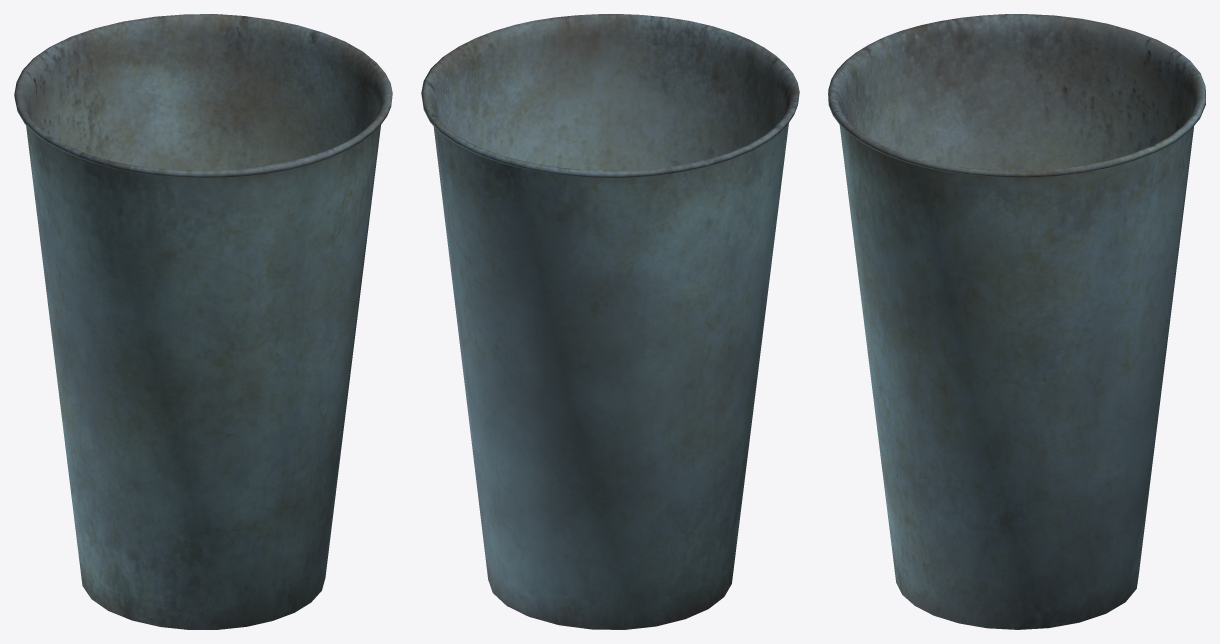
Rendered from Cup_1.fbx.
3 views of the same model, side by side, from view 1: azimuth 30°, elevation 25°; view 2: azimuth 150°, elevation 25°; view 3: azimuth 270°, elevation 25° (orthographic).
Visible parts, largest first — view 1: SM_Cup; view 2: SM_Cup; view 3: SM_Cup.
Part boxes in pixels (x1,y1,x2,y2): SM_Cup: (14, 14, 392, 629); SM_Cup: (421, 14, 799, 629); SM_Cup: (828, 14, 1205, 629).
Bounding box in the file's own units: 7.71 × 11 × 7.71.
